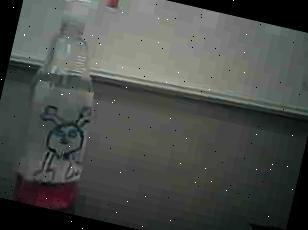hazard: (0, 0, 126, 215)
